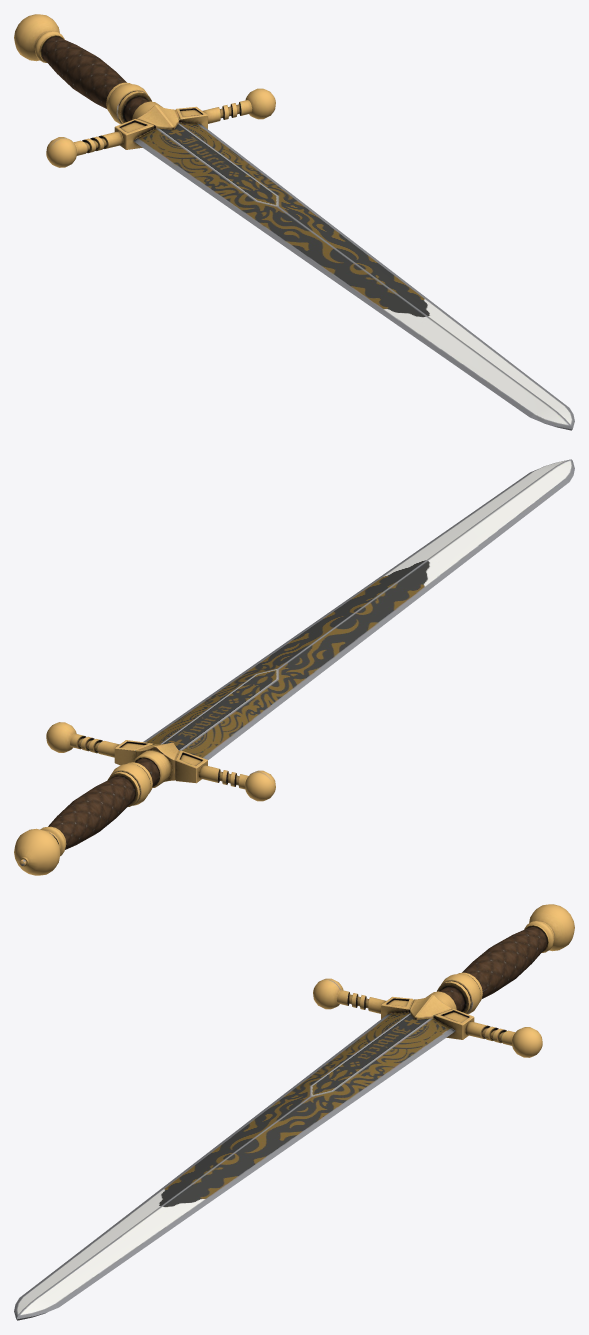
The model's file is Sword.fbx.
3 views of the same model, one above another, from view 1: azimuth 30°, elevation 25°; view 2: azimuth 150°, elevation 25°; view 3: azimuth 330°, elevation 25° (orthographic).
Parts seen in each view (by area): view 1: defaultMaterial.001, defaultMaterial; view 2: defaultMaterial.001, defaultMaterial; view 3: defaultMaterial.001, defaultMaterial.
Part boxes in pixels (x1,y1,x2,y2): defaultMaterial.001: [133, 122, 574, 430]; defaultMaterial: [14, 14, 275, 167]; defaultMaterial.001: [143, 459, 574, 759]; defaultMaterial: [14, 722, 275, 875]; defaultMaterial.001: [14, 1012, 455, 1320]; defaultMaterial: [313, 904, 574, 1057].
Size of the model in its own units: 0.4703 by 0.0857 by 1.99.
